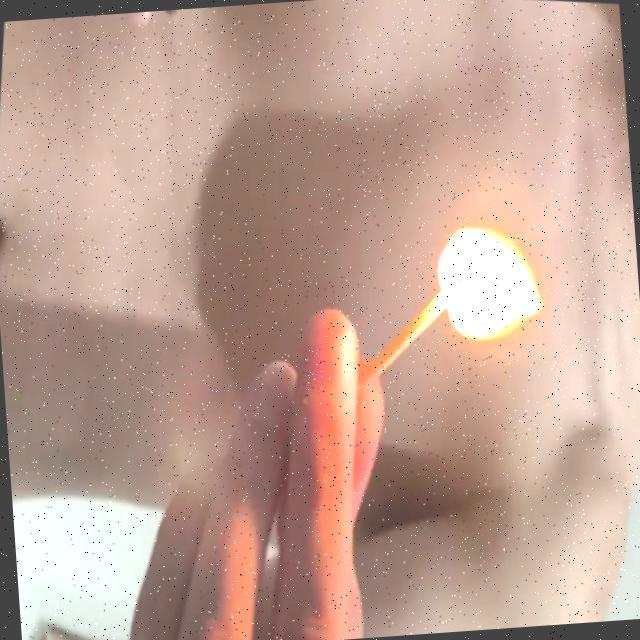fire: (419, 199, 569, 356)
